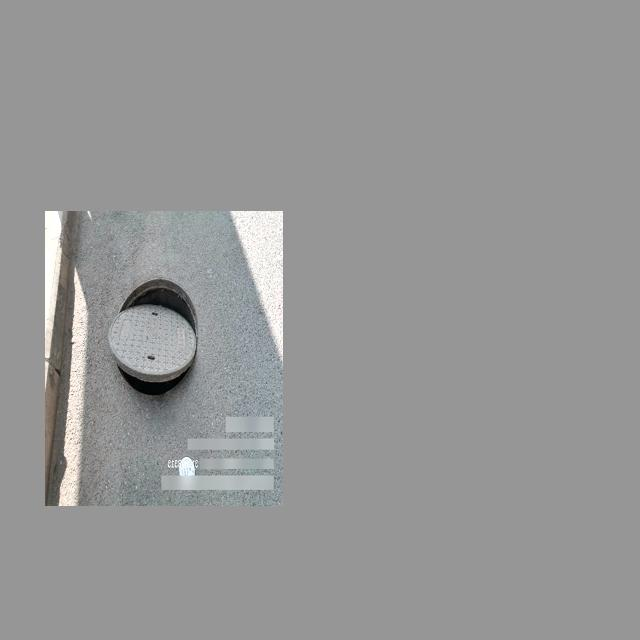uncovered: (110, 278, 199, 394)
